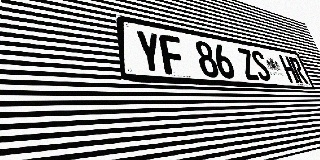6: (211, 43, 237, 79)
8: (194, 40, 220, 78)
F: (158, 34, 187, 76)
H: (278, 55, 300, 83)
R: (288, 57, 309, 84)
S: (249, 50, 273, 81)
Y: (134, 29, 165, 74)
Z: (236, 47, 260, 81)
